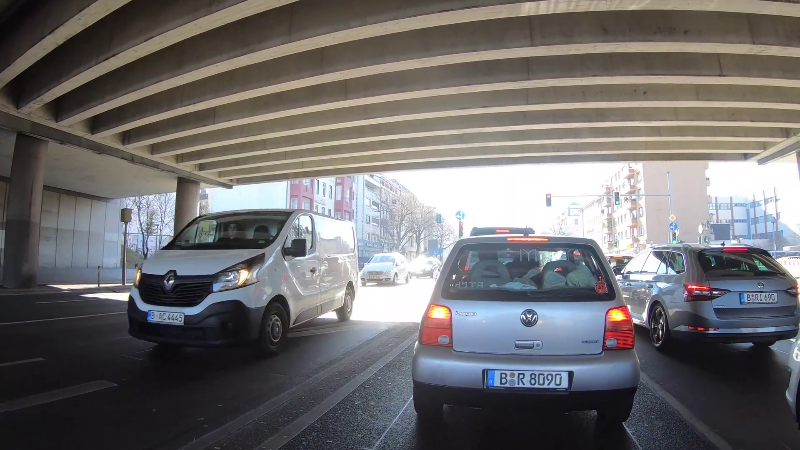Plate: (480, 368, 573, 389), (144, 310, 185, 325), (739, 292, 779, 304)
